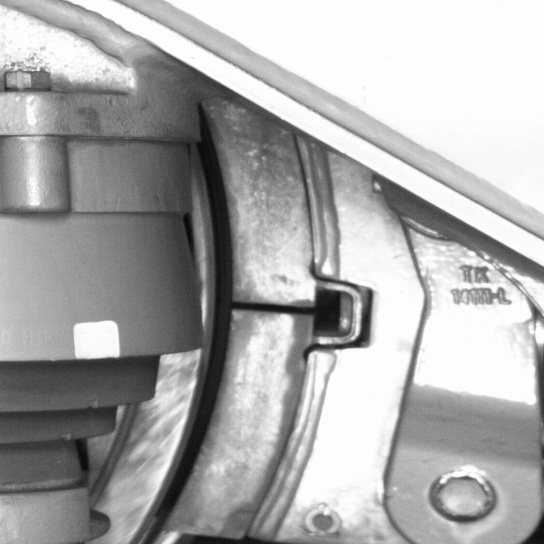KnifeSwitch: (128, 139, 317, 542)
